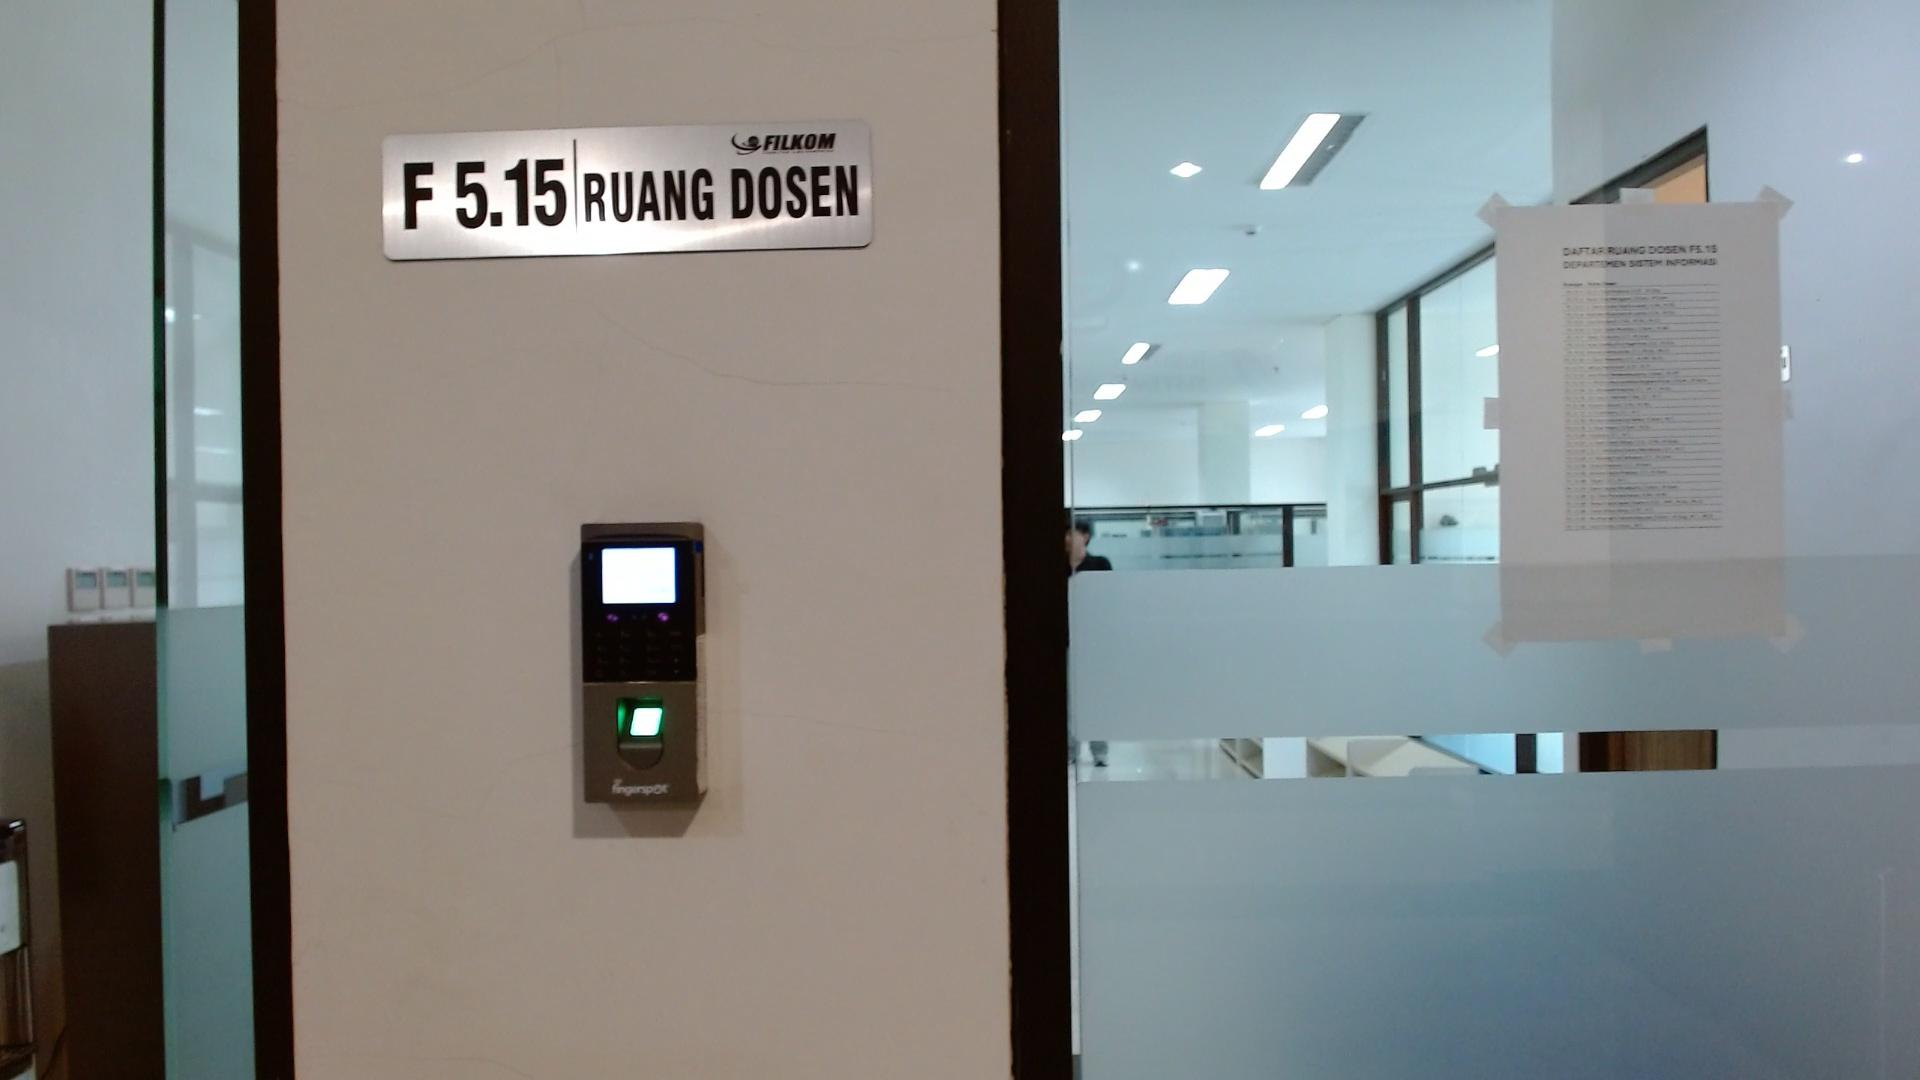plate: (382, 120, 873, 260)
